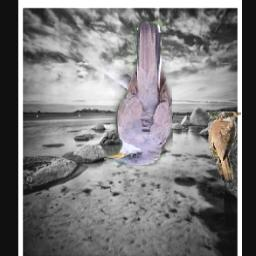Cuckoo: (104, 22, 172, 166), (208, 113, 241, 184)
